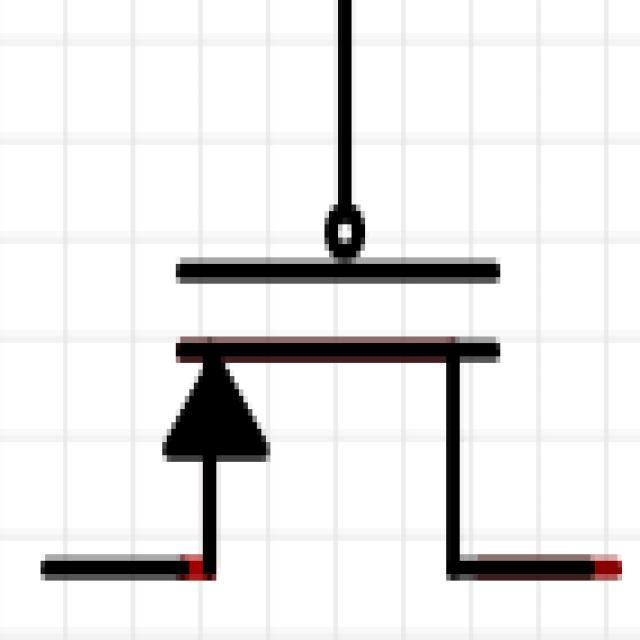pmos: (48, 76, 640, 640)
